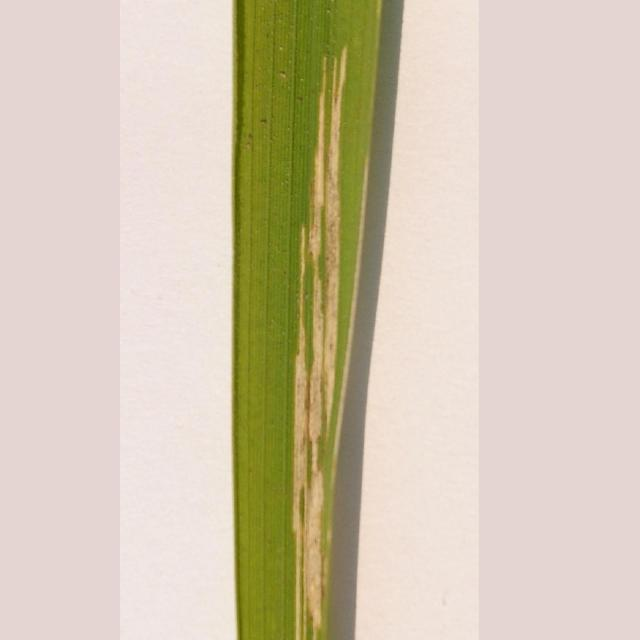Bacterial leaf blight: (288, 23, 361, 640)
